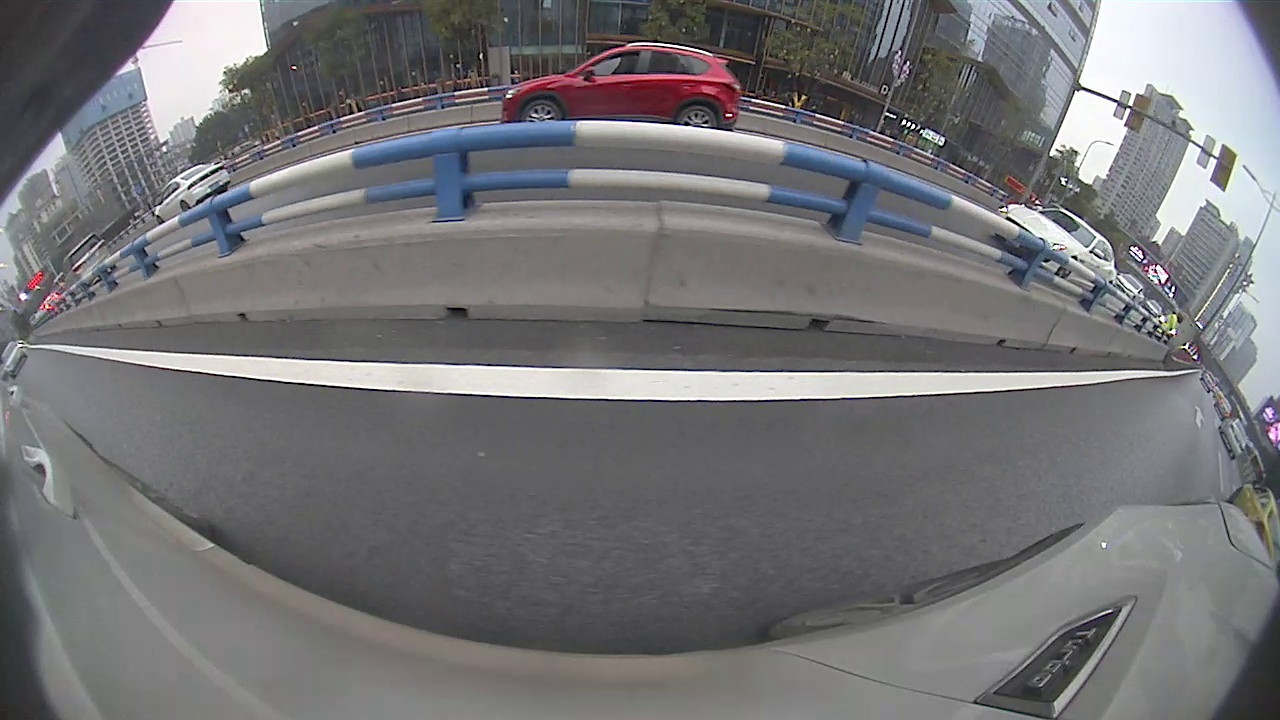car: (500, 41, 743, 131), (1218, 417, 1248, 460)
front: (517, 96, 568, 124)
rear: (673, 103, 720, 131)
